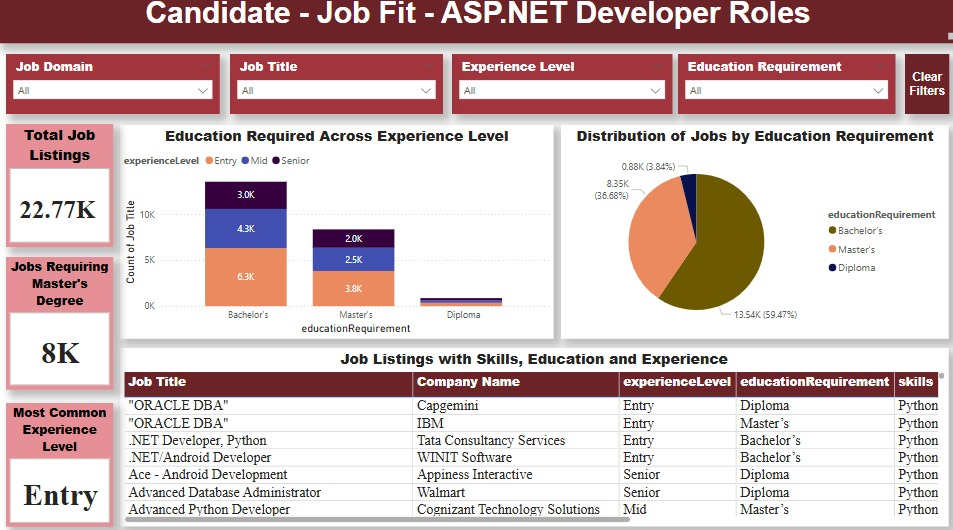

The page's visual inventory and layout, read from the dashboard file:
{"tool":"powerbi","page":{"name":"Candidate - Job Fit","canvas":[1280,720],"ordinal":4},"visuals":[{"type":"textbox","title":"Candidate - Job Fit - ASP.NET Developer Roles","box":[0,0,1280,62.9],"z":0},{"type":"slicer","fields":{"Values":["ASP NET.experienceLevel"]},"box":[605.8,77.2,294.2,80.1],"z":1000},{"type":"slicer","fields":{"Values":["ASP NET.Job Roles"]},"box":[10.6,77.3,285.1,80.4],"z":2000},{"type":"slicer","fields":{"Values":["ASP NET.educationRequirement"]},"box":[906.9,77.3,289.7,80.4],"z":3000},{"type":"columnChart","title":"Education Required Across Experience Level","fields":{"Category":["ASP NET.educationRequirement"],"Series":["ASP NET.experienceLevel"],"Y":["CountNonNull(ASP NET.Job Title)"]},"box":[162.8,172.1,577.9,284.9],"z":4000},{"type":"pieChart","title":"Distribution of Jobs by Education Requirement","fields":{"Category":["ASP NET.educationRequirement"],"Y":["CountNonNull(ASP NET.Job Title)"]},"box":[750.7,171.4,517.2,285.1],"z":5000},{"type":"tableEx","title":"Job Listings with Skills, Education and Experience","fields":{"Values":["ASP NET.Job Title","ASP NET.Company Name","ASP NET.experienceLevel","ASP NET.educationRequirement","ASP NET.skills"]},"box":[162.8,469.8,1104.7,238.4],"z":6000},{"type":"cardVisual","title":"Total Job Listings","fields":{"Data":["CountNonNull(ASP NET.Job Title)"]},"box":[10.5,170.9,143,164],"z":7000},{"type":"cardVisual","title":"Jobs Requiring Master''s Degree","fields":{"Data":["CountNonNull(ASP NET.MasterRequiredJobs)"]},"box":[10.5,347.7,143,176.7],"z":8000},{"type":"cardVisual","title":"Most Common Experience Level","fields":{"Data":["Min(ASP NET.MostCommonExperience)"]},"box":[10.5,543,143,165.1],"z":9000},{"type":"actionButton","box":[1208.7,77.3,59.1,80.4],"z":10000},{"type":"slicer","fields":{"Values":["ASP NET.Job Title"]},"box":[308.7,77.2,284,80.1],"z":11000}]}

Visuals, with their boxes in screenshot pixels (x1, y1, x2, y2), scaled from the page's 1280x720 canvas onto the 953x530 screenshot:
"Candidate - Job Fit - ASP.NET Developer Roles" textbox: rect(0, 0, 952, 46)
slicer - ASP NET.experienceLevel: rect(451, 57, 670, 116)
slicer - ASP NET.Job Roles: rect(8, 57, 220, 116)
slicer - ASP NET.educationRequirement: rect(675, 57, 891, 116)
"Education Required Across Experience Level" columnChart: rect(121, 127, 551, 336)
"Distribution of Jobs by Education Requirement" pieChart: rect(559, 126, 944, 336)
"Job Listings with Skills, Education and Experience" tableEx: rect(121, 346, 944, 521)
"Total Job Listings" cardVisual: rect(8, 126, 114, 247)
"Jobs Requiring Master''s Degree" cardVisual: rect(8, 256, 114, 386)
"Most Common Experience Level" cardVisual: rect(8, 400, 114, 521)
actionButton: rect(900, 57, 944, 116)
slicer - ASP NET.Job Title: rect(230, 57, 441, 116)
